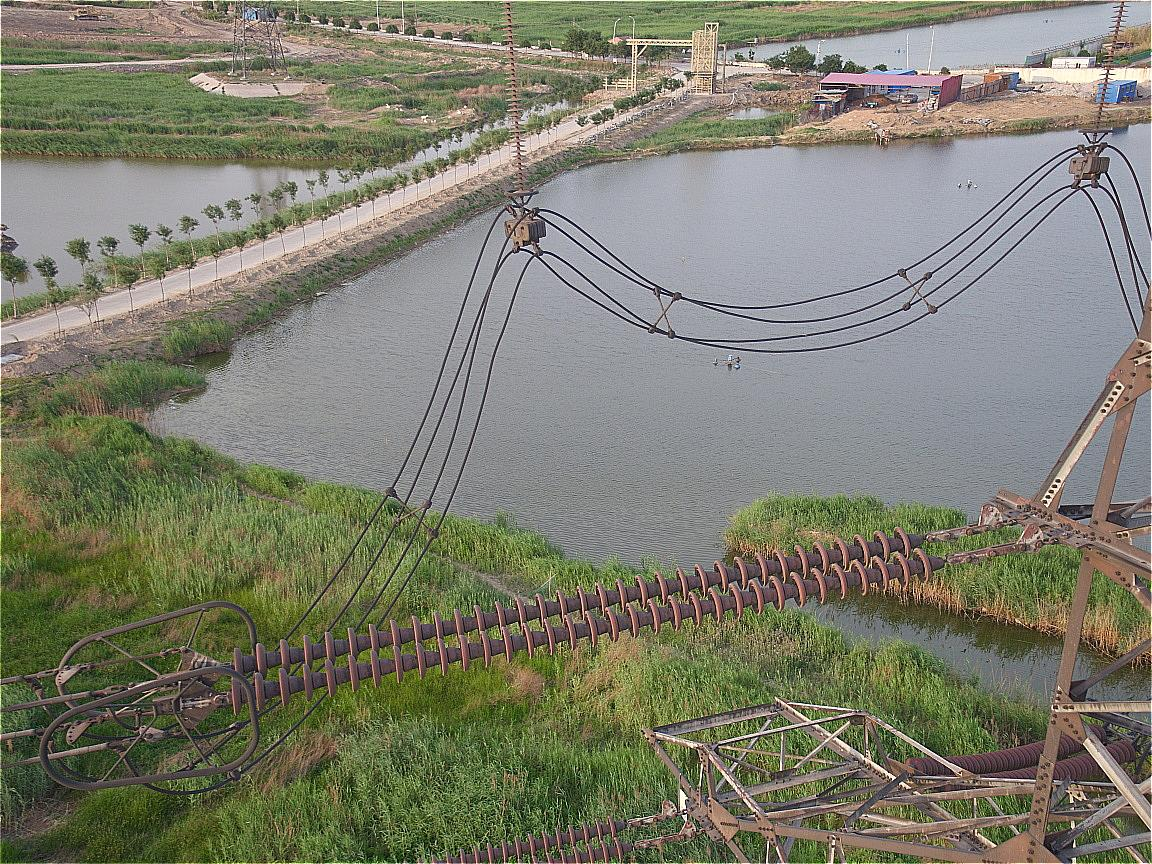insultor1: (210, 520, 944, 719)
